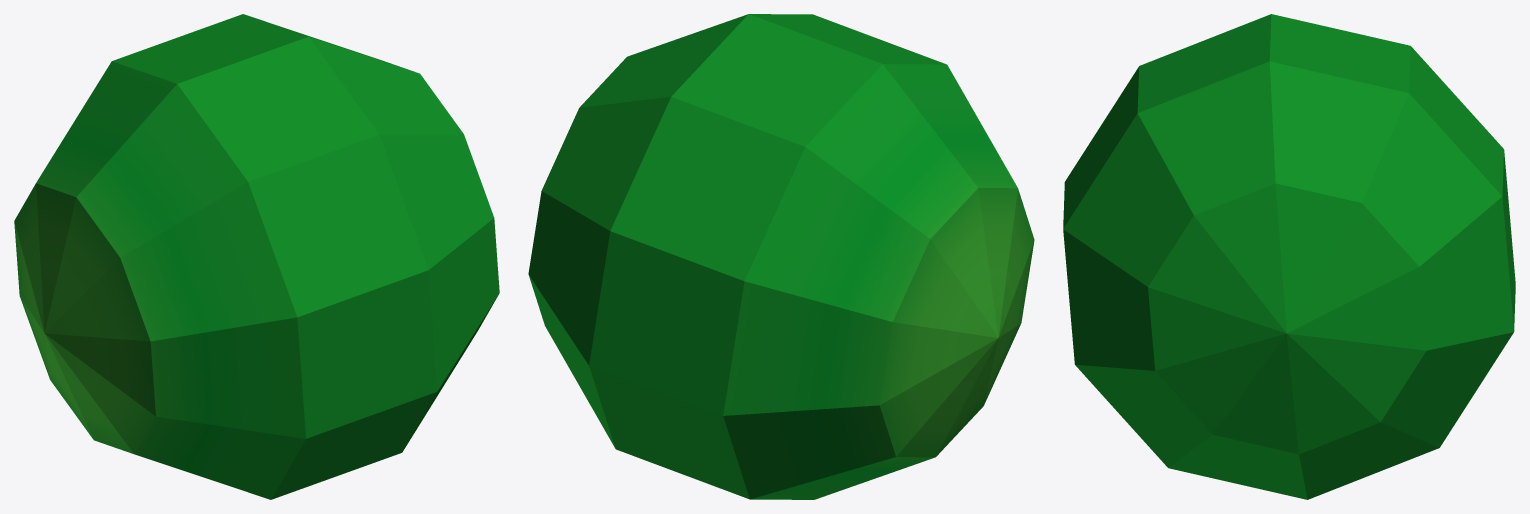
File: buxus.obj
The picture shows the model from 3 angles, left to right: view 1: azimuth 30°, elevation 25°; view 2: azimuth 150°, elevation 25°; view 3: azimuth 270°, elevation 25°; orthographic projection. The views are drawn at different scales.
Visible parts, largest first — view 1: ROAD.082; view 2: ROAD.082; view 3: ROAD.082.
Part boxes in pixels (box(x1,y1,x2,y2)): ROAD.082: box(14, 14, 499, 499); ROAD.082: box(528, 14, 1034, 499); ROAD.082: box(1063, 14, 1515, 499).
Bounding box in the file's own units: 7.92 × 7.79 × 7.4.
1 material, 1 textured.
